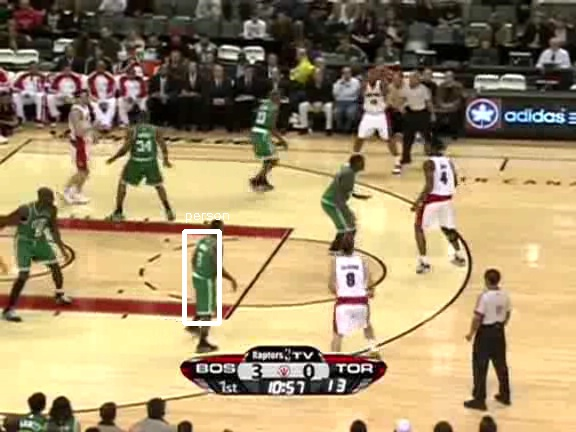person: (189, 235, 223, 316), (188, 235, 222, 316), (190, 235, 224, 316), (189, 234, 223, 315), (189, 236, 223, 317)
target_negative: (142, 86, 507, 322), (157, 339, 456, 422), (316, 210, 398, 343), (352, 275, 414, 363), (371, 256, 437, 269), (347, 313, 350, 410)
